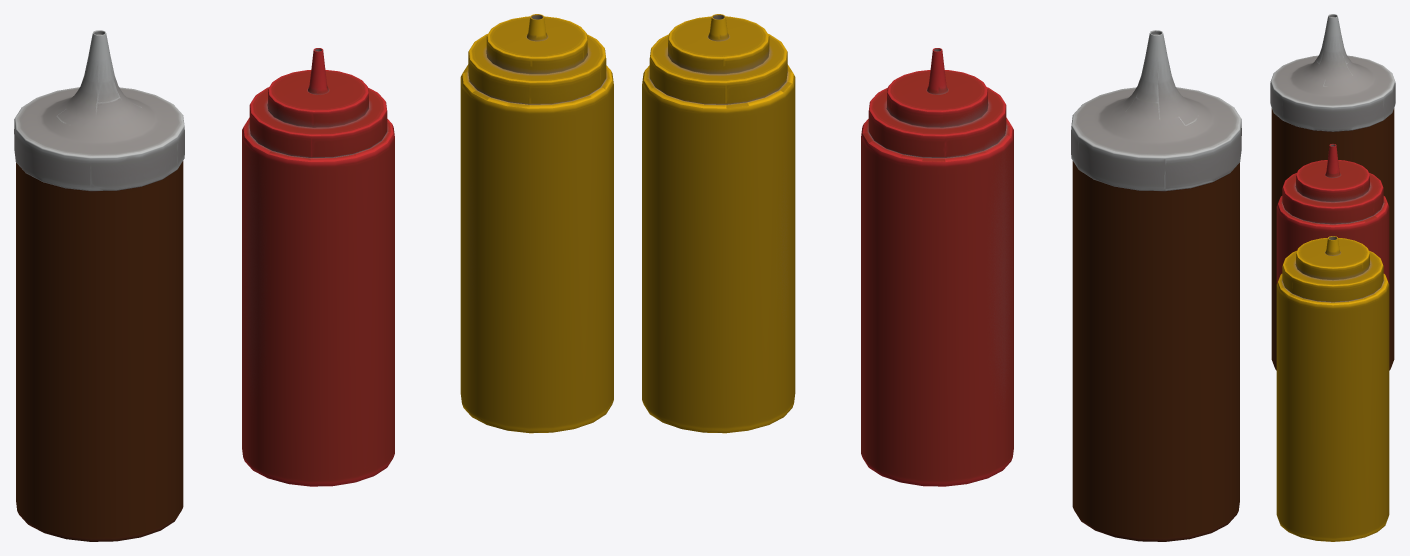
File: bottles.glb
3 renders of one model, left to right at view 1: azimuth 30°, elevation 25°; view 2: azimuth 150°, elevation 25°; view 3: azimuth 270°, elevation 25°, orthographic. The views are drawn at different scales.
Parts seen in each view (by area): view 1: SM_condiments_bottle_03, SM_condiments_bottle_01, SM_condiments_bottle_02; view 2: SM_condiments_bottle_03, SM_condiments_bottle_01, SM_condiments_bottle_02; view 3: SM_condiments_bottle_01, SM_condiments_bottle_03, SM_condiments_bottle_02.
Boxes of the visible parts, x1,y1,x2,y2 form: SM_condiments_bottle_03: [14, 30, 184, 541]; SM_condiments_bottle_01: [460, 14, 613, 433]; SM_condiments_bottle_02: [242, 48, 394, 486]; SM_condiments_bottle_03: [1071, 30, 1241, 541]; SM_condiments_bottle_01: [642, 14, 795, 433]; SM_condiments_bottle_02: [861, 48, 1013, 486]; SM_condiments_bottle_01: [1276, 236, 1389, 541]; SM_condiments_bottle_03: [1270, 14, 1395, 370]; SM_condiments_bottle_02: [1276, 144, 1389, 283].
Bounding box in the file's own units: 0.2115 × 0.1667 × 0.0544.
1 material, 1 textured.
